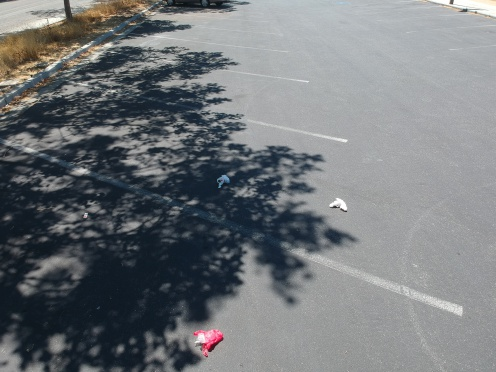plastic bag: (188, 323, 230, 359), (210, 169, 234, 192)
